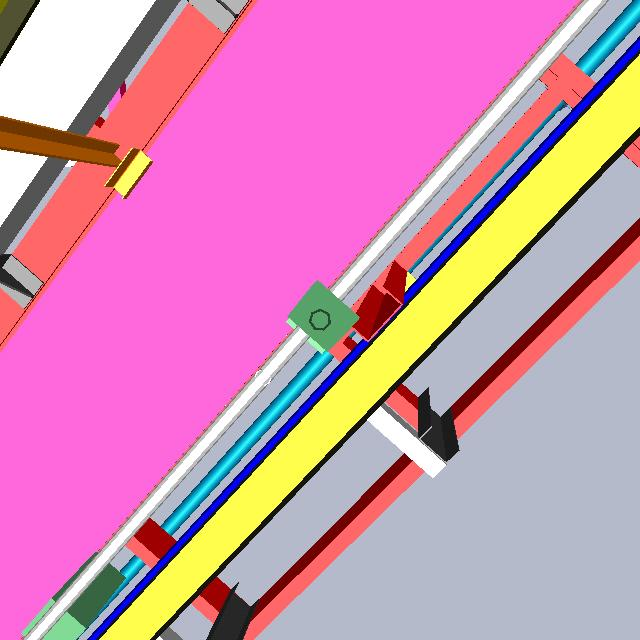Poste: (304, 309, 336, 342)
Soporte: (343, 246, 418, 354)
